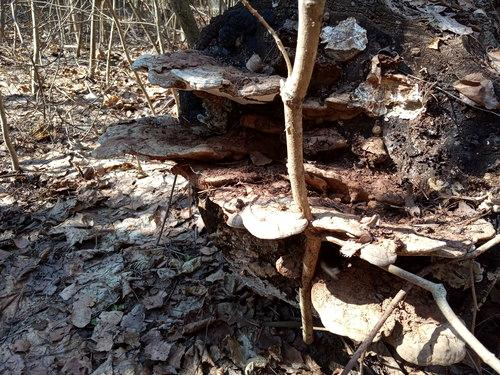Ganoderma - Fruit Body: (128, 42, 286, 107), (93, 115, 252, 165), (309, 271, 394, 349), (398, 312, 470, 369), (242, 189, 310, 243)
